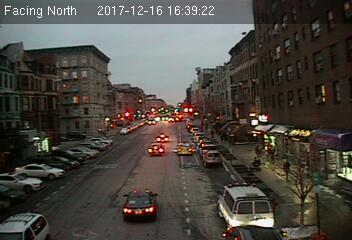car: (122, 188, 161, 223), (203, 149, 222, 166), (147, 143, 166, 158), (177, 141, 194, 157), (155, 133, 170, 144)
police: (218, 183, 275, 233)
